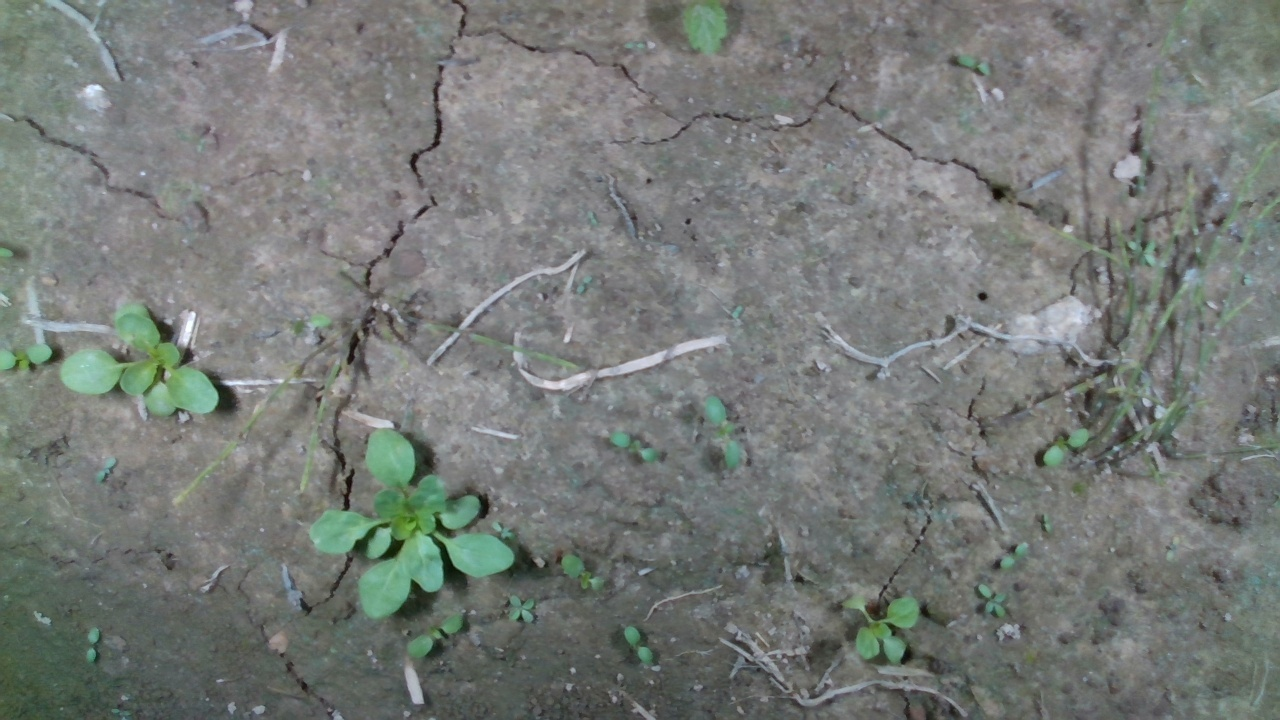weed: (403, 612, 466, 660), (559, 553, 608, 592), (624, 624, 655, 664), (976, 583, 1007, 618), (999, 539, 1029, 571), (507, 594, 536, 625), (84, 625, 100, 664)
